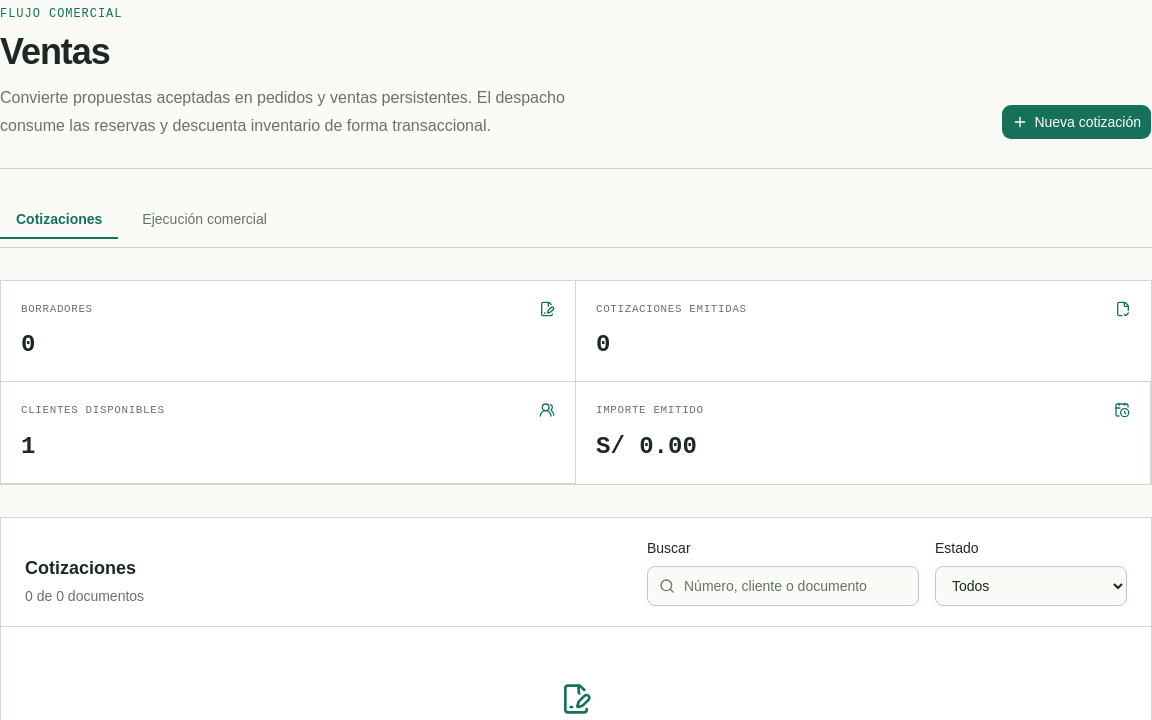
Scenario: VentasPage › abre la cotización con el diálogo centrado y los selectores buscables
Click the button "Nueva cotización".
click(1077, 122)  # box left=1001, top=104, right=1151, bottom=140
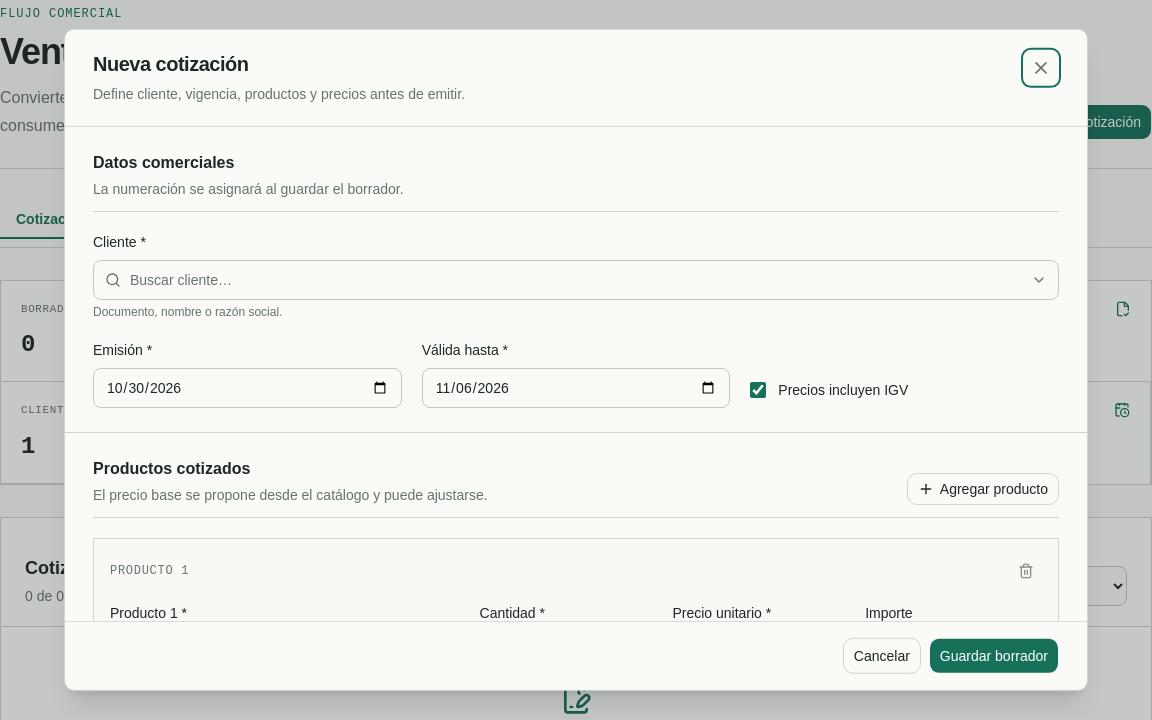
Now the dialog "Nueva cotización" is shown
Now the dropdown labelled "Cliente" is shown, box left=93, top=260, right=1059, bottom=300
